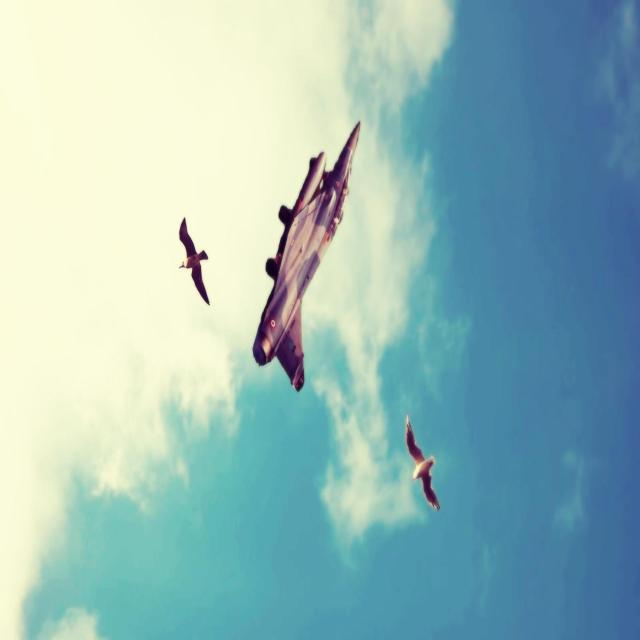airplane: (252, 118, 361, 392)
